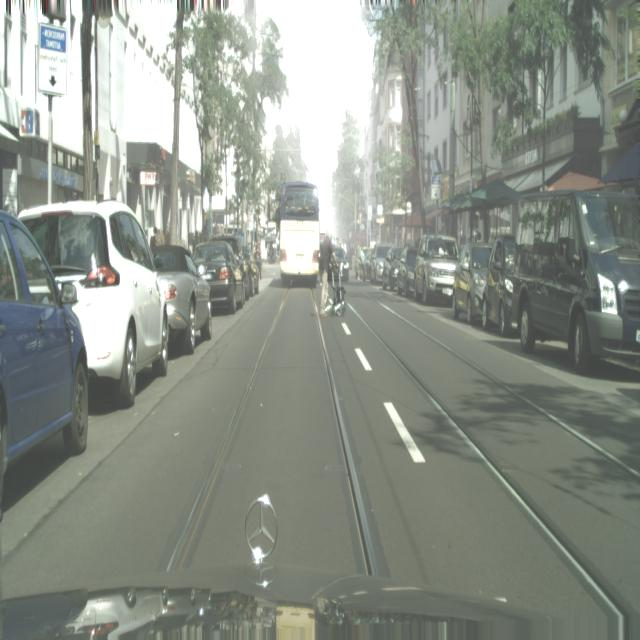bicycle: (279, 182, 320, 285)
bus: (319, 228, 336, 311)
car: (512, 187, 640, 372)
person: (18, 198, 170, 408), (0, 207, 90, 519), (151, 244, 212, 355), (193, 239, 243, 314), (481, 234, 516, 336), (413, 233, 460, 306), (452, 242, 492, 326), (211, 238, 248, 301), (396, 246, 419, 299), (368, 242, 392, 286), (382, 247, 403, 292), (241, 245, 258, 296), (331, 245, 351, 282)
